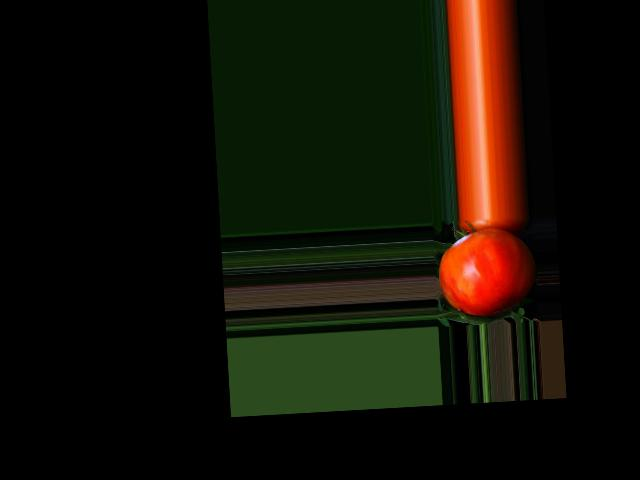tomato: (436, 226, 538, 318)
